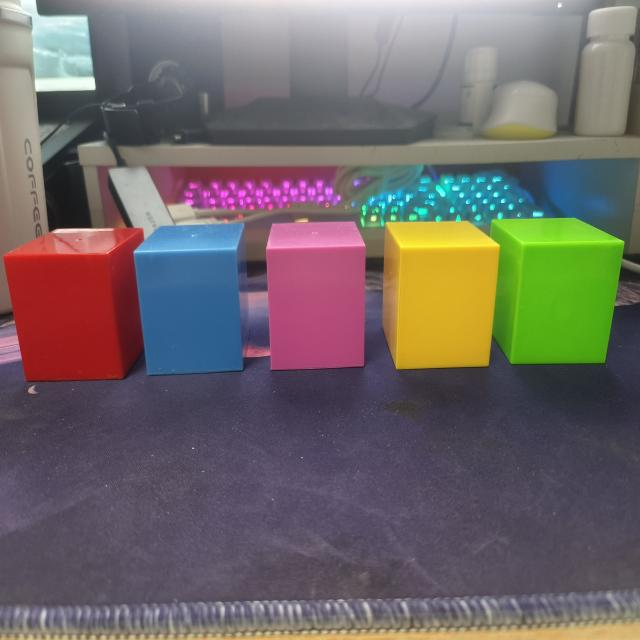blue: (133, 222, 246, 377)
green: (488, 217, 625, 369)
pink: (262, 218, 366, 373)
red: (2, 226, 145, 385)
yellow: (382, 221, 501, 373)
